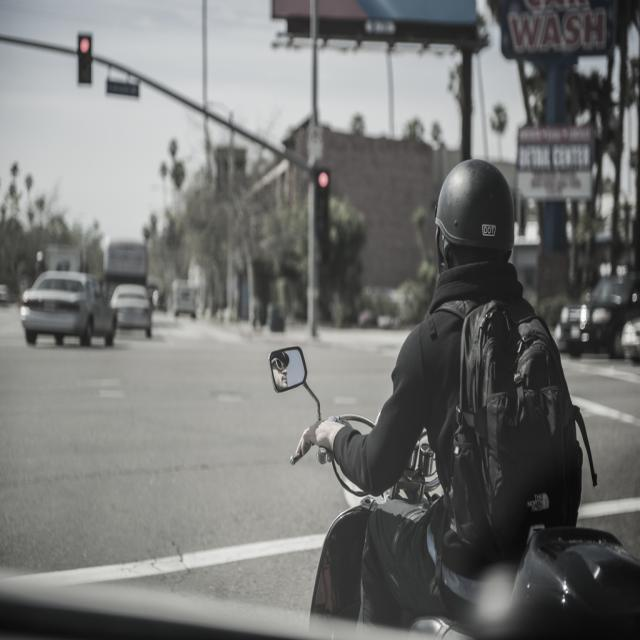traffic light: (74, 30, 99, 84), (314, 169, 336, 229)
